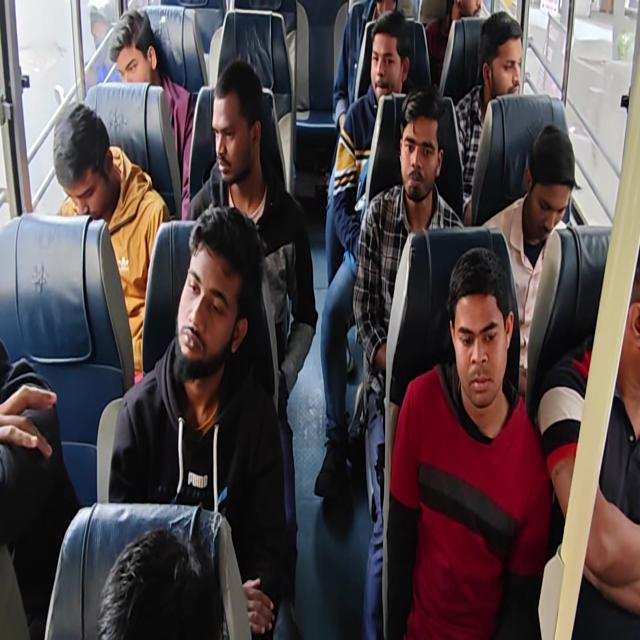person: (1, 1, 638, 638), (107, 203, 288, 638), (186, 59, 318, 610), (384, 246, 552, 638), (352, 83, 465, 638), (314, 9, 413, 498), (536, 247, 640, 620), (53, 102, 170, 382), (480, 122, 580, 400), (0, 336, 81, 638), (332, 10, 412, 259), (107, 7, 196, 219), (454, 11, 523, 225), (95, 527, 224, 639), (332, 0, 398, 131), (424, 0, 482, 88), (84, 0, 119, 90)
